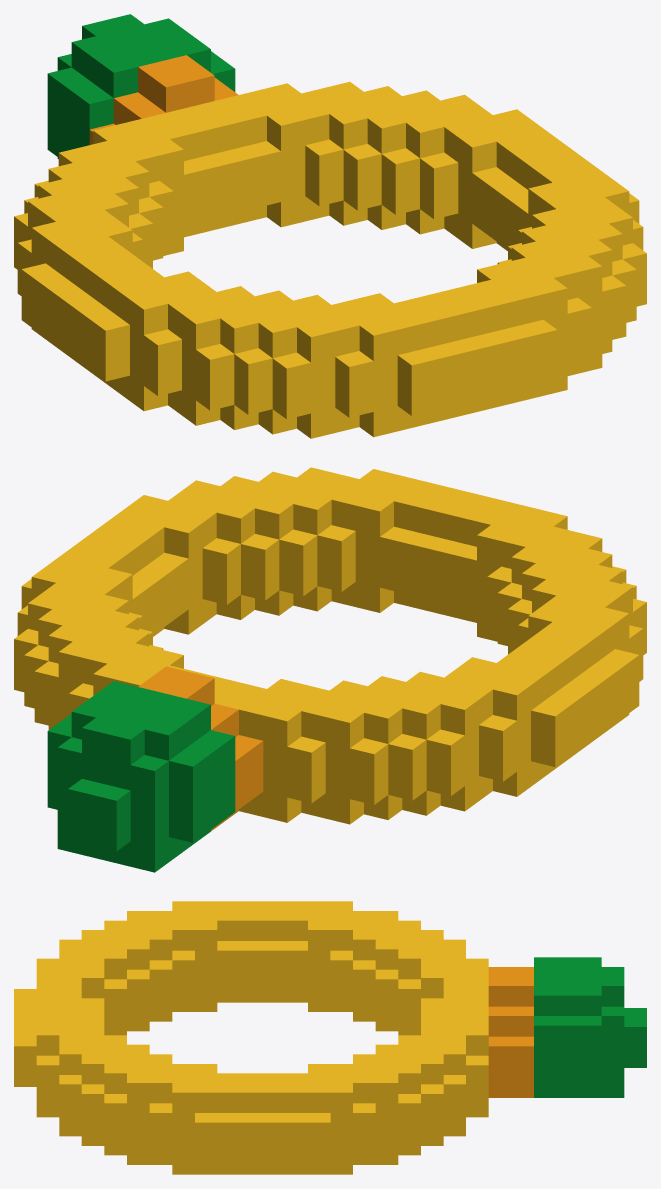
Rendered from item_RING_EMERALD.glb.
The picture shows the model from 3 angles, top to bottom: view 1: azimuth 30°, elevation 25°; view 2: azimuth 150°, elevation 25°; view 3: azimuth 270°, elevation 25°; orthographic projection. The views are drawn at different scales.
Visible parts, largest first — view 1: item_RING_EMERALD; view 2: item_RING_EMERALD; view 3: item_RING_EMERALD.
Boxes of the visible parts, bbox=[...] form: item_RING_EMERALD: bbox=[14, 14, 646, 438]; item_RING_EMERALD: bbox=[14, 467, 646, 872]; item_RING_EMERALD: bbox=[14, 901, 646, 1174].
Size of the model in its own units: 0.25 by 0.0568 by 0.3182.
Materials: 1 (1 with a texture image).
